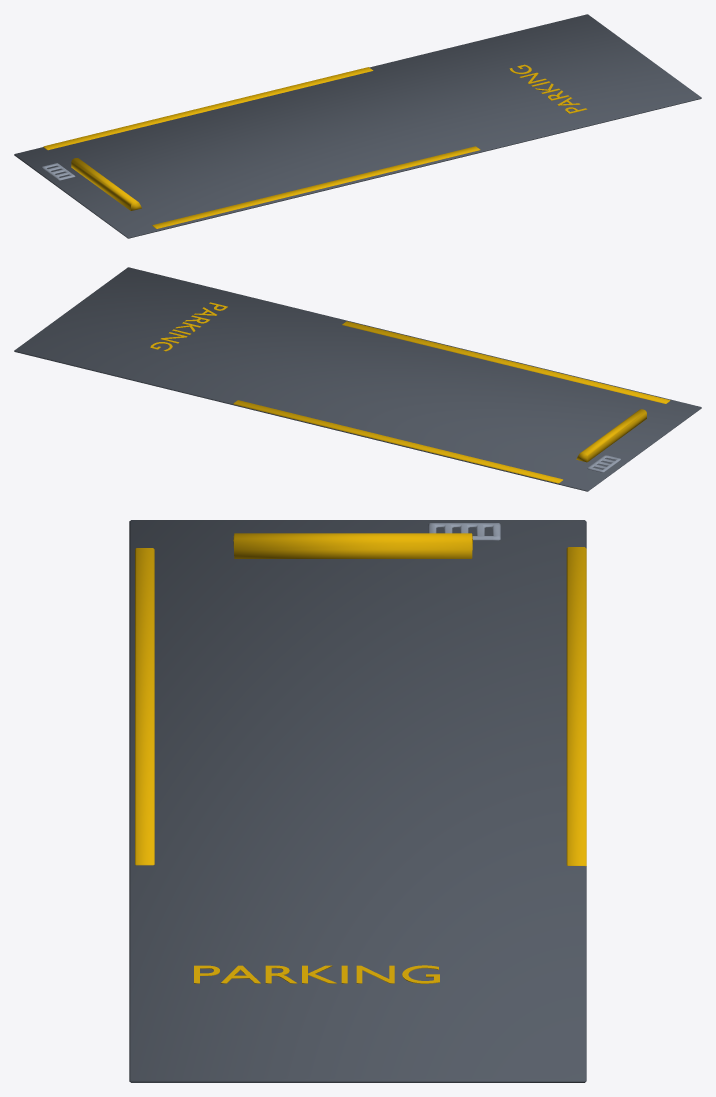
3 renders of one model, top to bottom at view 1: azimuth 30°, elevation 25°; view 2: azimuth 150°, elevation 25°; view 3: azimuth 270°, elevation 25°, orthographic. The views are drawn at different scales.
Parts seen in each view (by area): view 1: Text.003; view 2: Text.003; view 3: Text.003.
Boxes of the visible parts, bbox=[...] form: Text.003: bbox=[14, 14, 701, 238]; Text.003: bbox=[14, 267, 701, 491]; Text.003: bbox=[129, 520, 586, 1082].
Size of the model in its own units: 2830 by 52.4 by 976.
